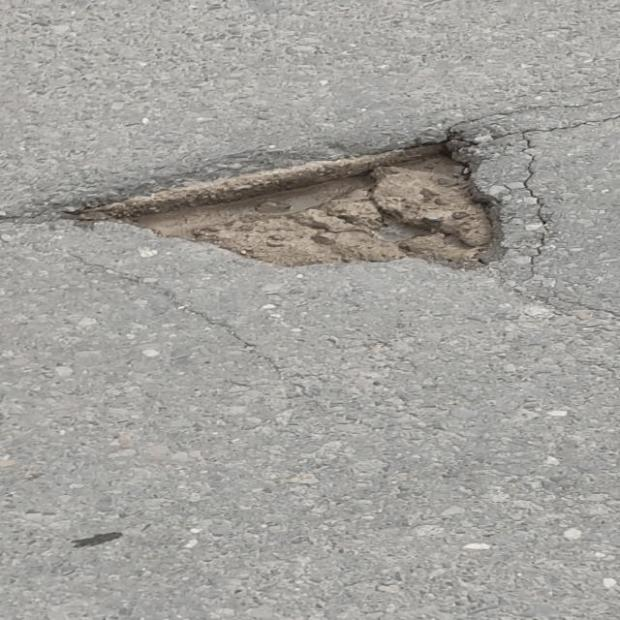lubang: (66, 117, 543, 265)
